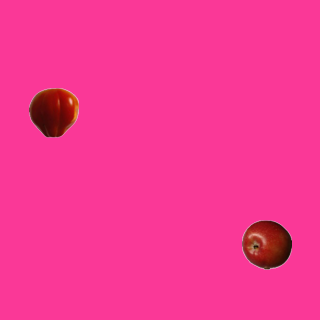Apple Braeburn: (241, 219, 291, 269)
Tomato 1: (28, 87, 78, 137)
